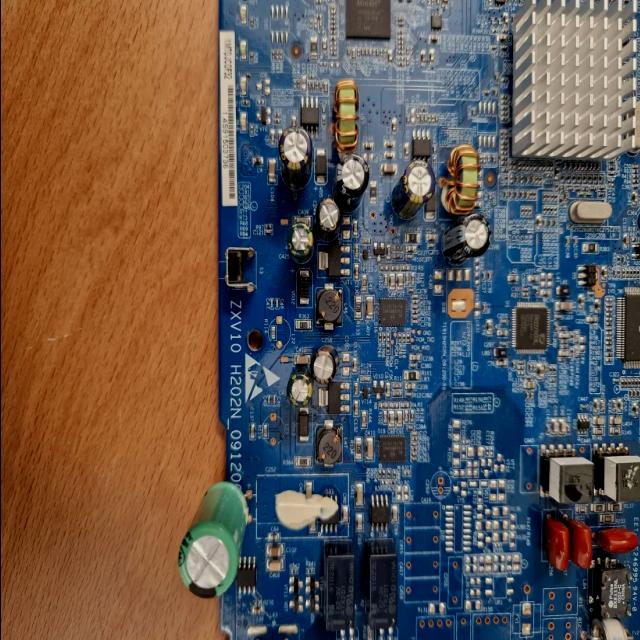A: (441, 144, 479, 212), (330, 82, 358, 152)
C: (178, 482, 246, 598), (392, 158, 434, 216), (442, 214, 490, 262), (278, 127, 310, 185), (333, 154, 368, 207), (310, 346, 338, 384), (286, 224, 312, 262), (286, 368, 312, 406), (316, 198, 340, 236)
